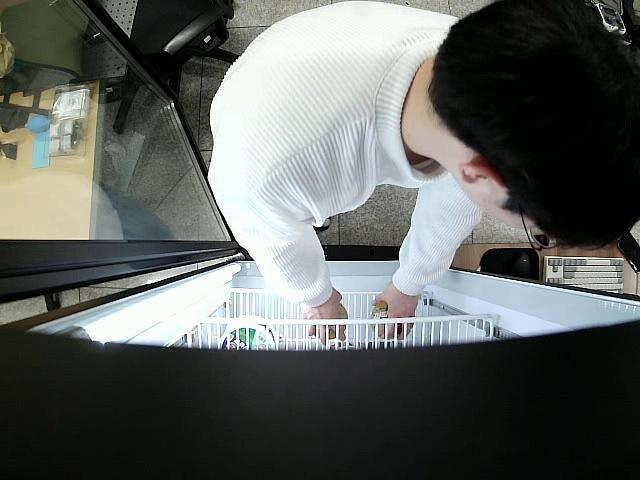04_chapagetti_S: (369, 302, 412, 340), (312, 303, 350, 339)
